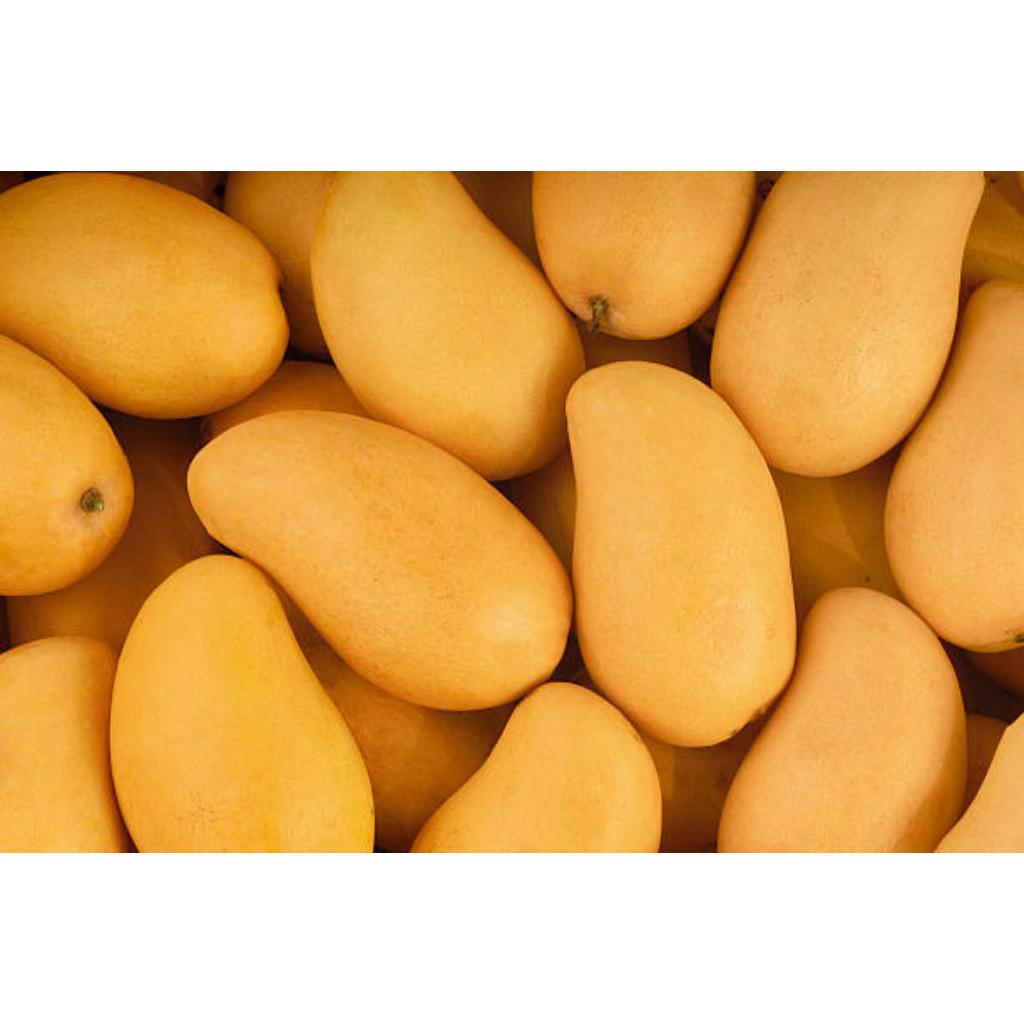mango: (188, 413, 572, 710), (566, 365, 796, 746), (310, 173, 586, 481), (712, 171, 984, 477), (112, 555, 374, 852), (0, 173, 288, 419), (718, 589, 966, 852), (412, 683, 662, 853), (532, 171, 754, 339), (0, 335, 134, 596), (0, 637, 132, 852)
